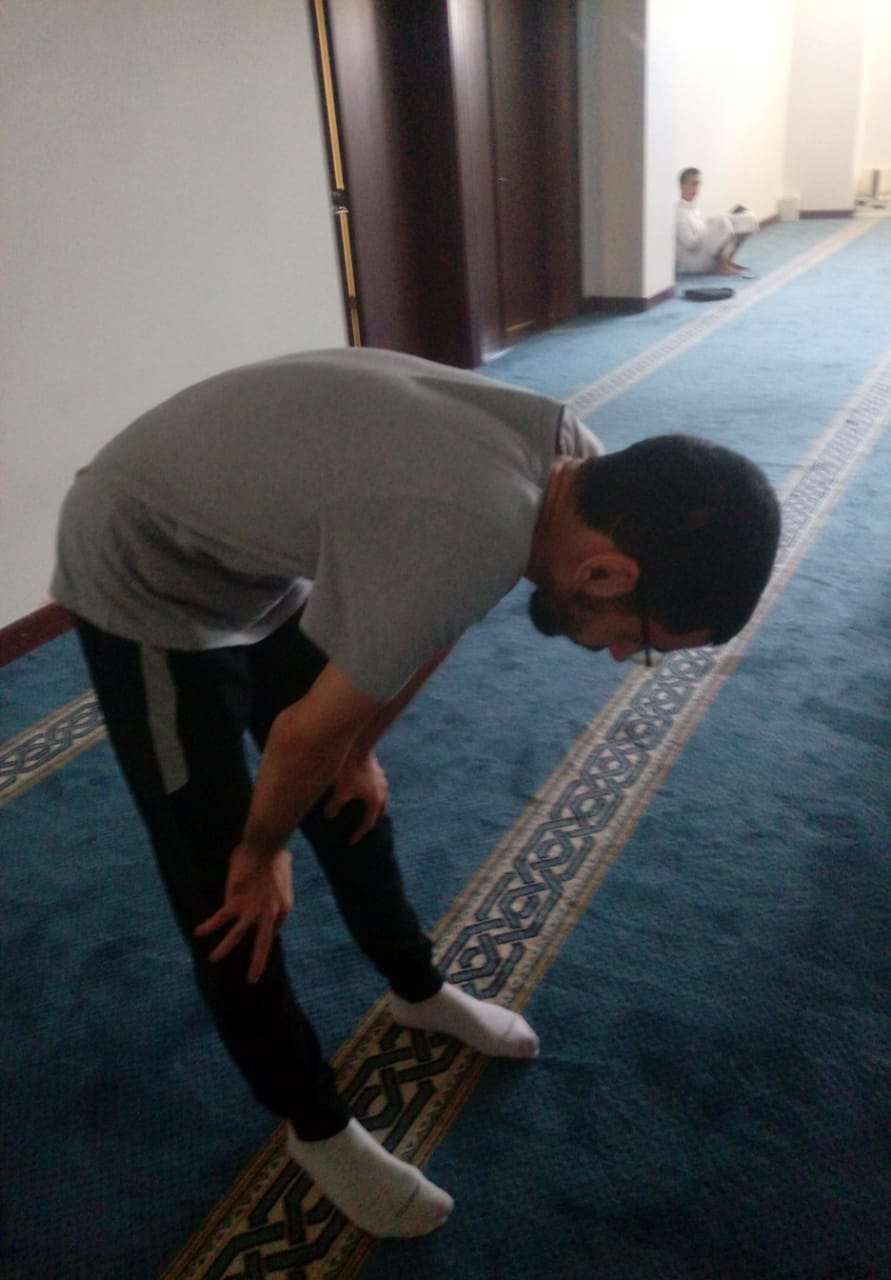ruku: (5, 270, 890, 1218)
